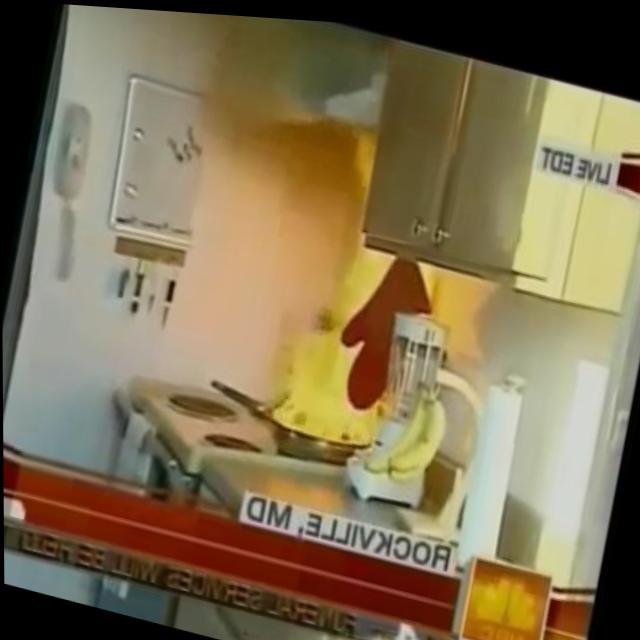fire: (262, 112, 459, 456)
